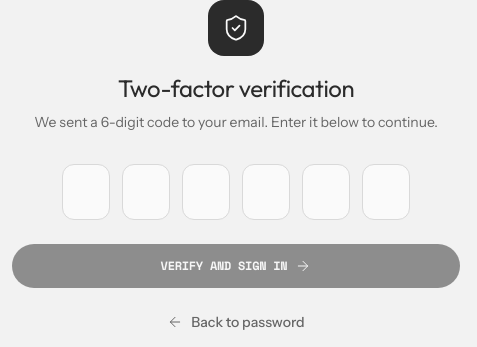
Scenario: TwoFactorStep › keeps the submit button disabled until all six digits are entered
Expected: the button "Verify and Sign In" is disabled, [12, 244, 460, 288]
In the field named "Digit 1": [86, 192] box [62, 164, 110, 220], type "1"
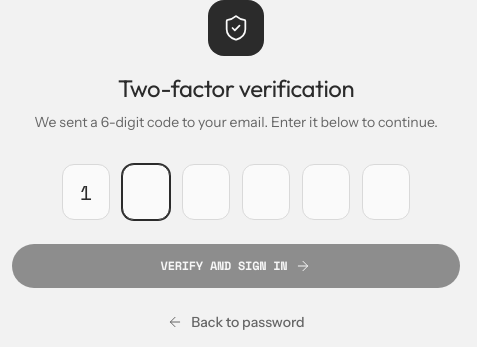
In the field named "Digit 2": [146, 192] box [122, 164, 170, 220], type "2"
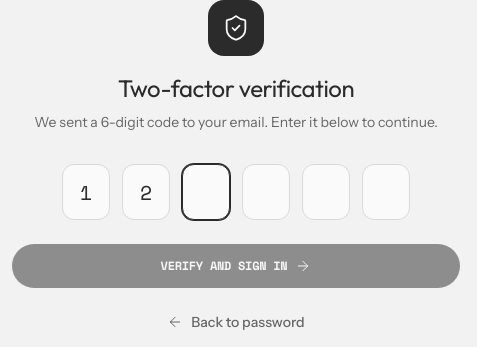
In the field named "Digit 3": [206, 192] box [182, 164, 230, 220], type "3"
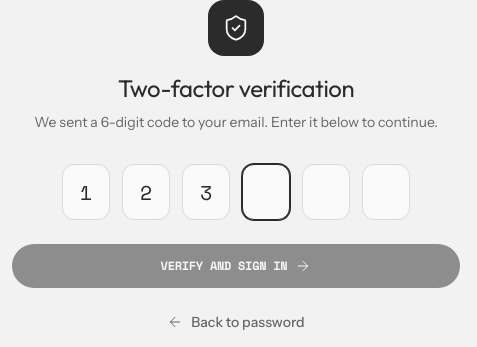
In the field named "Digit 4": [266, 192] box [242, 164, 290, 220], type "4"
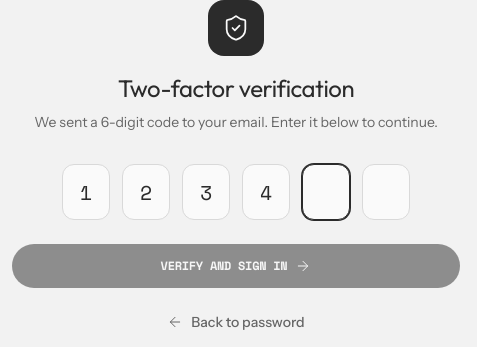
In the field named "Digit 5": [326, 192] box [302, 164, 350, 220], type "5"
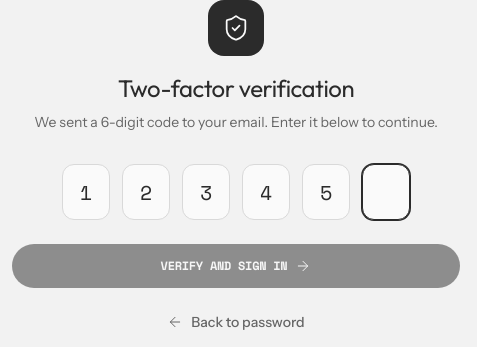
In the field named "Digit 6": [386, 192] box [362, 164, 410, 220], type "6"
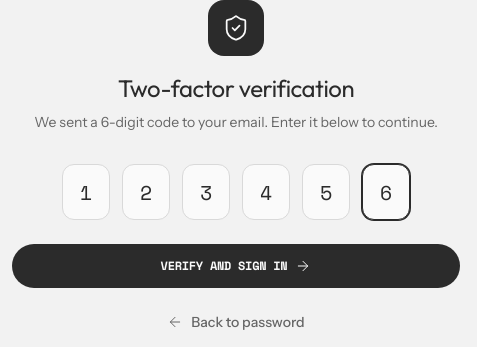
Now the button "Verify and Sign In" is enabled, box [12, 244, 460, 288]
